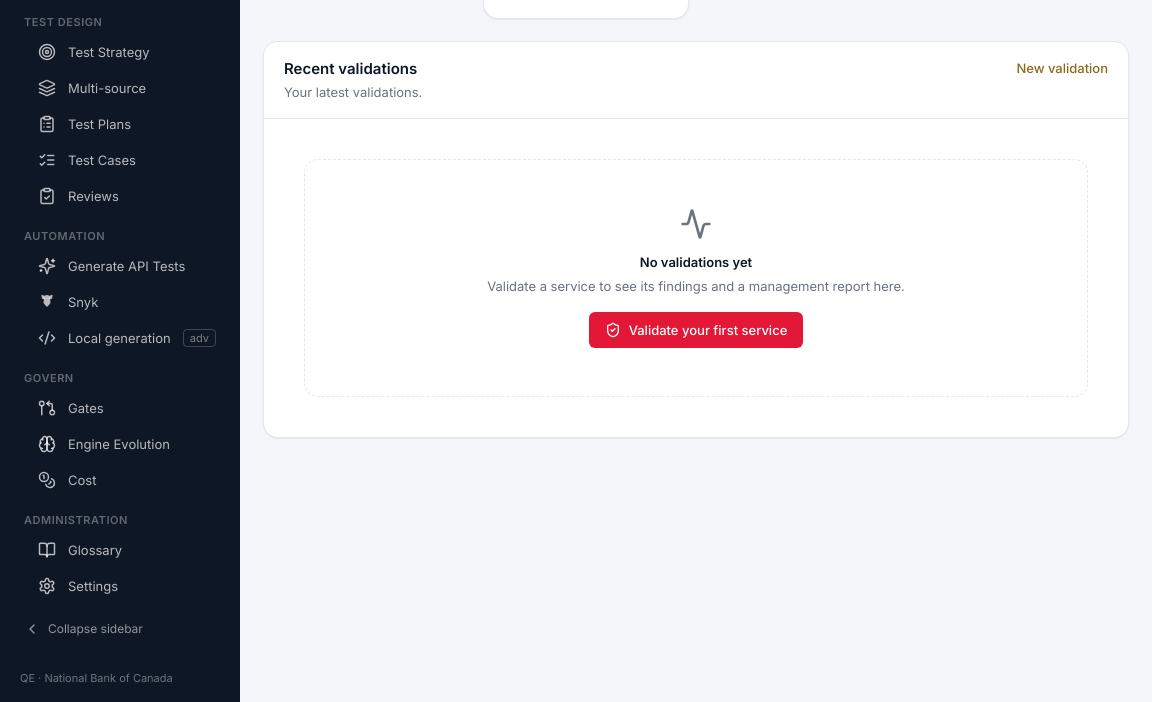
Sidebar › collapses + expands and persists the choice
The image size is (1152, 702).
(page scrolled)
Step 1. Click the button "Collapse sidebar" → (120, 629), box [12, 612, 228, 646]
(page scrolled)
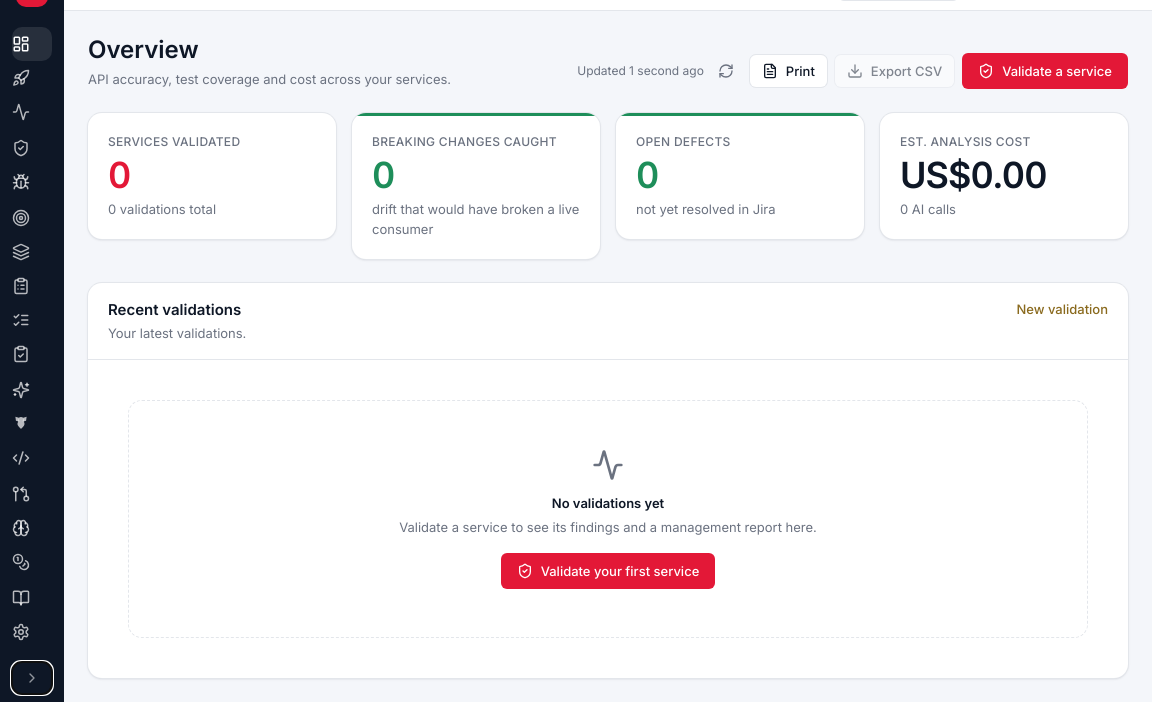
Expected: the button named "Expand sidebar" is shown, [12, 662, 52, 694]
